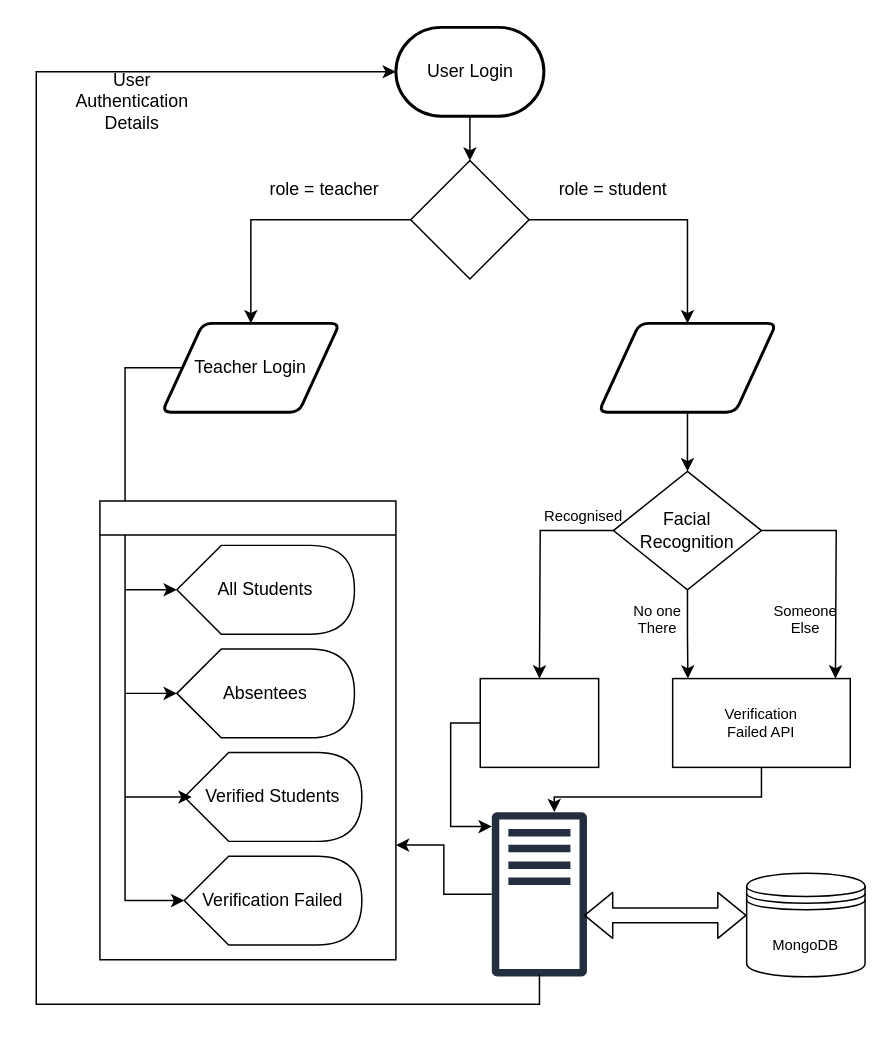
Some shapes in this 891 by 1042 pixel diagram are drawn without their labels. Each missing label, with the centre of its shape:
Dashboard: [247,730]
Node.js Server: [538,893]
role: [469,219]
Student Login: [686,367]
Verified API: [539,722]
